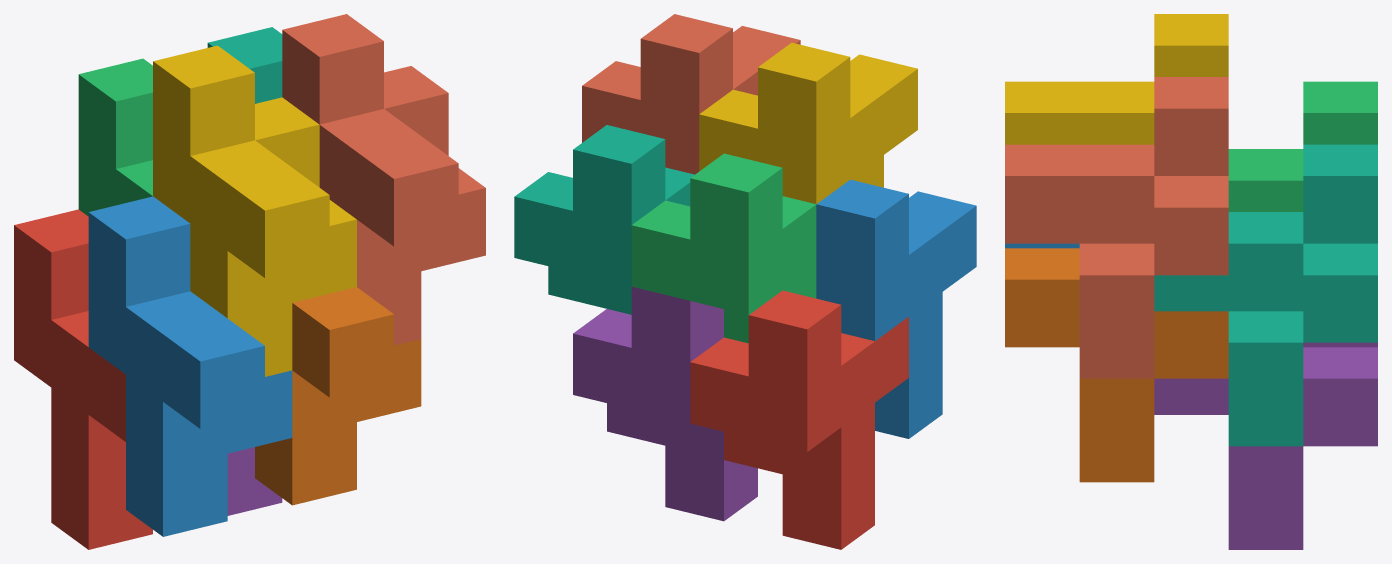
The model's file is tiling.obj.
3 renders of one model, left to right at view 1: azimuth 30°, elevation 25°; view 2: azimuth 150°, elevation 25°; view 3: azimuth 270°, elevation 25°, orthographic. The views are drawn at different scales.
Parts seen in each view (by area): view 1: copy_1_domain_2, copy_1_domain_4, copy_1_domain_8, copy_1_domain_1, copy_1_domain_6, copy_1_domain_3, copy_1_domain_7, copy_1_domain_5; view 2: copy_1_domain_1, copy_1_domain_2, copy_1_domain_4, copy_1_domain_3, copy_1_domain_5, copy_1_domain_7, copy_1_domain_8; view 3: copy_1_domain_8, copy_1_domain_7, copy_1_domain_6, copy_1_domain_5, copy_1_domain_4, copy_1_domain_3.
Part boxes in pixels (x1,y1,x2,y2): copy_1_domain_2: (88, 196, 292, 536); copy_1_domain_4: (153, 45, 356, 376); copy_1_domain_8: (282, 14, 485, 345); copy_1_domain_1: (14, 209, 152, 549); copy_1_domain_6: (255, 287, 421, 505); copy_1_domain_3: (78, 58, 152, 216); copy_1_domain_7: (207, 27, 282, 103); copy_1_domain_5: (227, 447, 282, 515); copy_1_domain_1: (690, 290, 908, 549); copy_1_domain_2: (816, 179, 976, 438); copy_1_domain_4: (699, 42, 917, 204); copy_1_domain_3: (631, 153, 816, 343); copy_1_domain_5: (573, 286, 757, 521); copy_1_domain_7: (514, 125, 694, 314); copy_1_domain_8: (582, 14, 800, 174); copy_1_domain_8: (1005, 77, 1228, 378); copy_1_domain_7: (1154, 144, 1377, 446); copy_1_domain_6: (1005, 248, 1228, 482); copy_1_domain_5: (1154, 342, 1377, 549); copy_1_domain_4: (1005, 14, 1228, 144); copy_1_domain_3: (1228, 81, 1377, 211).
Bounding box in the file's own units: 5 × 7 × 5.
